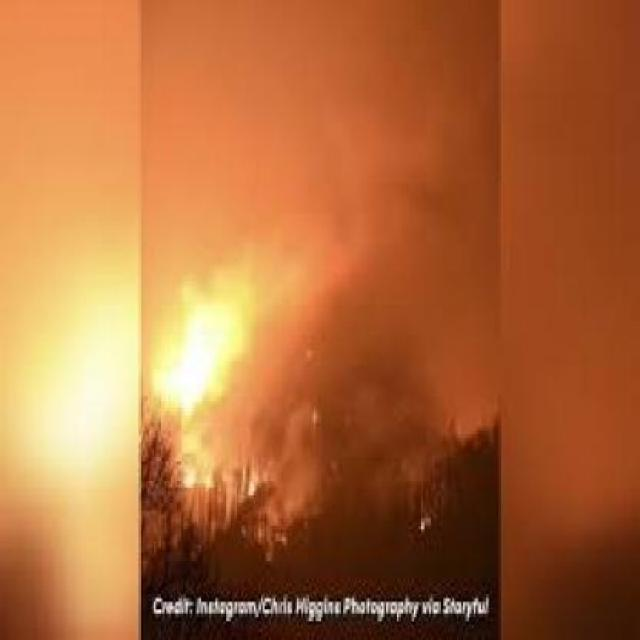Fire: (143, 221, 283, 485)
